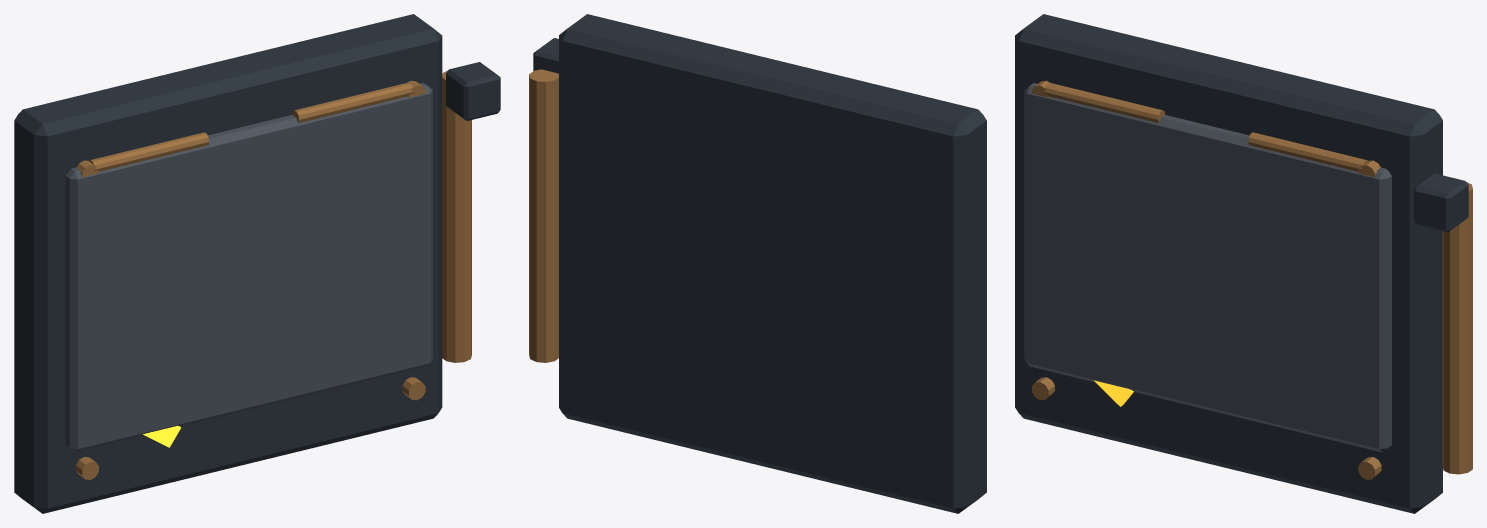
File: runtime.glb
3 renders of one model, left to right at view 1: azimuth 30°, elevation 25°; view 2: azimuth 150°, elevation 25°; view 3: azimuth 330°, elevation 25°, orthographic.
Visible parts, largest first — view 1: kinetic-tide-maintenance-panel-v07_plate_nocol, kinetic-tide-maintenance-panel-v07_steel_nocol, kinetic-tide-maintenance-panel-v07_bronze_nocol; view 2: kinetic-tide-maintenance-panel-v07_steel_nocol, kinetic-tide-maintenance-panel-v07_bronze_nocol; view 3: kinetic-tide-maintenance-panel-v07_plate_nocol, kinetic-tide-maintenance-panel-v07_steel_nocol, kinetic-tide-maintenance-panel-v07_bronze_nocol.
Boxes of the visible parts, x1,y1,x2,y2 form: kinetic-tide-maintenance-panel-v07_plate_nocol: (65, 83, 432, 452); kinetic-tide-maintenance-panel-v07_steel_nocol: (14, 14, 500, 513); kinetic-tide-maintenance-panel-v07_bronze_nocol: (75, 71, 471, 479); kinetic-tide-maintenance-panel-v07_steel_nocol: (533, 14, 986, 513); kinetic-tide-maintenance-panel-v07_bronze_nocol: (529, 69, 558, 362); kinetic-tide-maintenance-panel-v07_plate_nocol: (1024, 83, 1391, 452); kinetic-tide-maintenance-panel-v07_steel_nocol: (1015, 14, 1468, 513); kinetic-tide-maintenance-panel-v07_bronze_nocol: (1032, 80, 1472, 479).
Bounding box in the file's own units: 4.2 × 3.47 × 0.6778.
